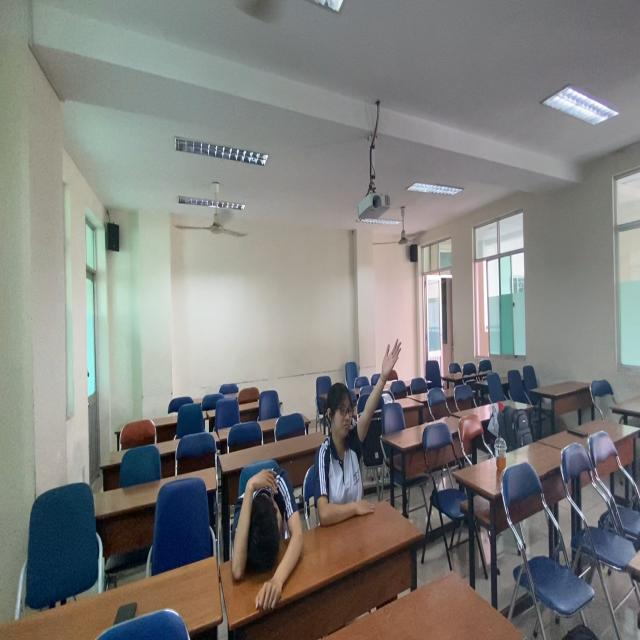raise_hand: (325, 340, 409, 532)
sleep: (227, 464, 306, 624)
